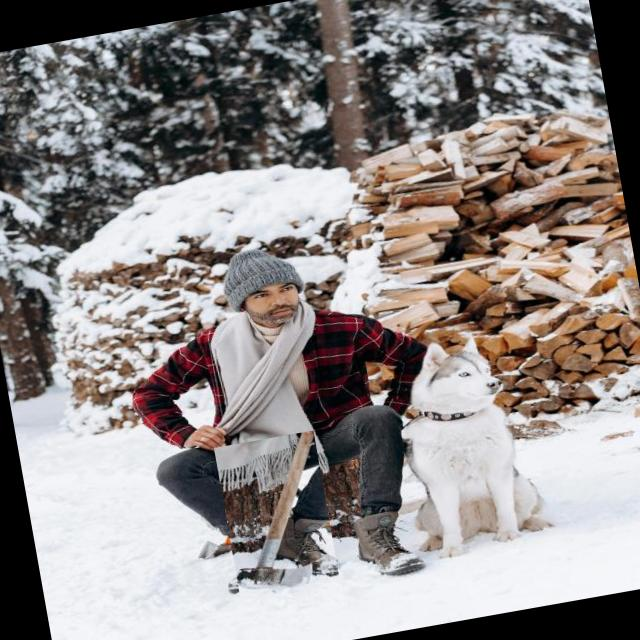Axe: (236, 431, 314, 587)
